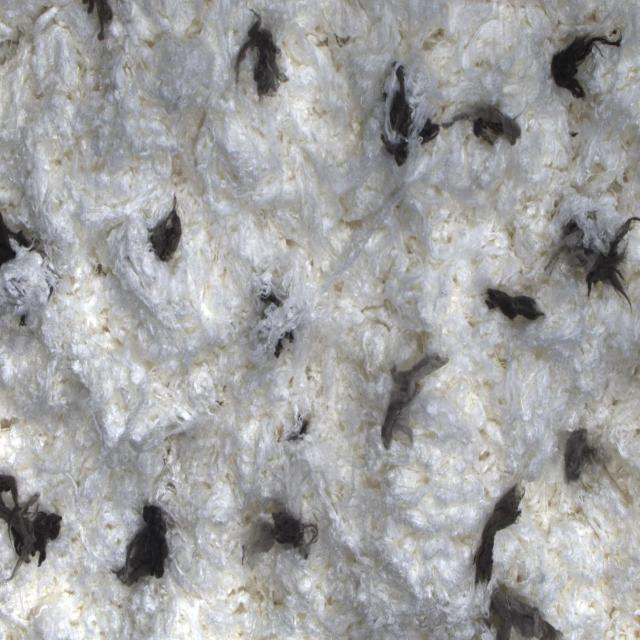dust: (550, 0, 624, 139), (545, 209, 640, 311), (365, 341, 447, 452), (373, 60, 447, 174), (457, 483, 532, 593), (0, 466, 66, 591), (0, 200, 60, 334), (226, 2, 290, 118), (563, 408, 627, 521), (237, 499, 321, 569), (478, 580, 572, 640), (448, 93, 531, 158), (112, 501, 173, 589), (469, 278, 562, 335), (140, 187, 194, 272), (256, 270, 305, 358), (77, 0, 124, 49), (275, 410, 315, 443)
